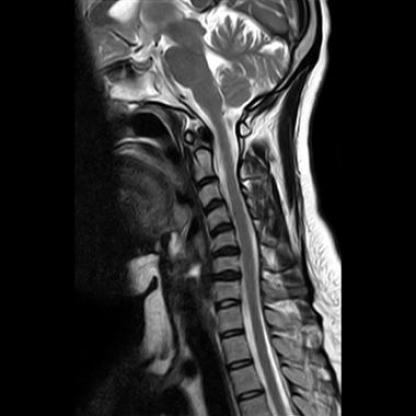Disc Bulgerotation: (210, 243, 242, 261), (215, 268, 243, 286), (208, 220, 235, 238)
